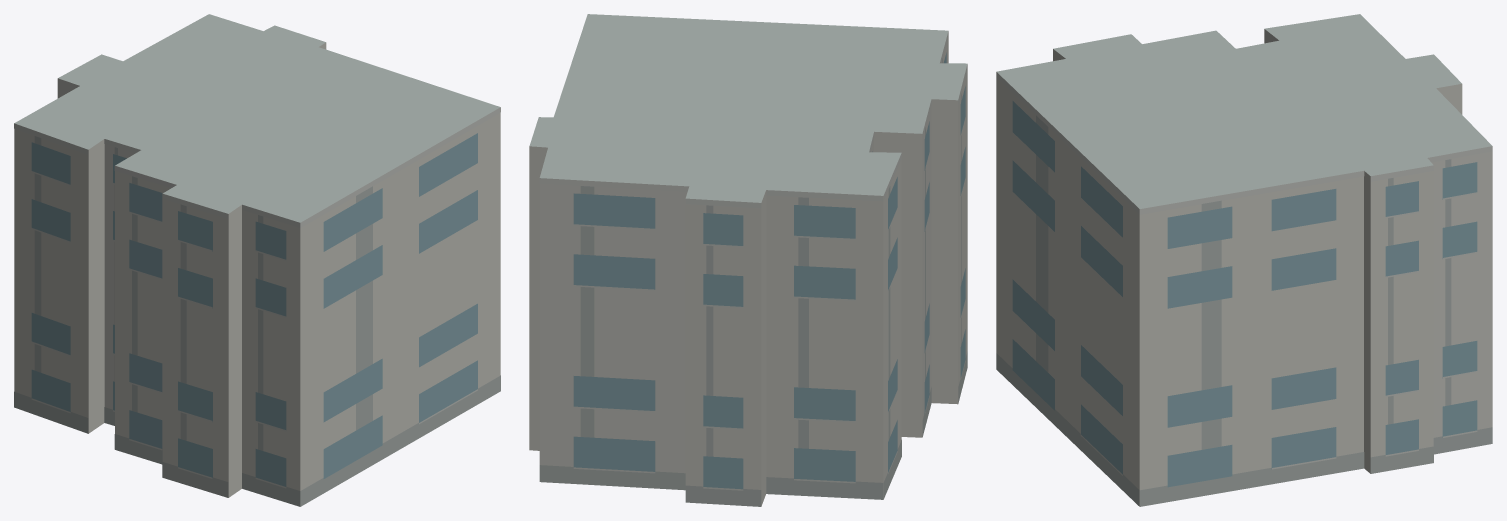
Rendered from survey-upis-33005991.glb.
3 renders of one model, left to right at view 1: azimuth 30°, elevation 25°; view 2: azimuth 150°, elevation 25°; view 3: azimuth 270°, elevation 25°, orthographic. The views are drawn at different scales.
Visible parts, largest first — view 1: survey-upis-33005991.tmp; view 2: survey-upis-33005991.tmp; view 3: survey-upis-33005991.tmp.
Part boxes in pixels (x1=…): survey-upis-33005991.tmp: x1=14, y1=14, x2=500, y2=506; survey-upis-33005991.tmp: x1=529, y1=14, x2=967, y2=506; survey-upis-33005991.tmp: x1=996, y1=14, x2=1492, y2=506.
Size of the model in its own units: 18.56 by 13.2 by 19.95.
